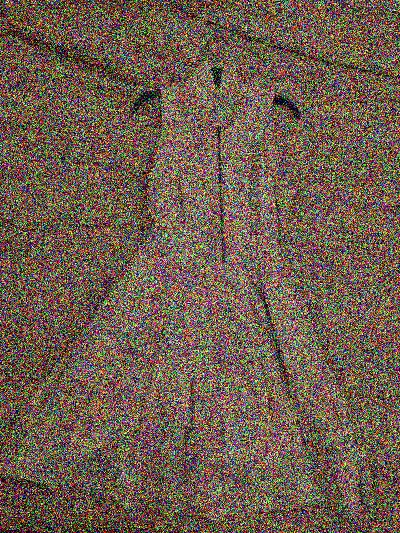Dress: (1, 48, 383, 530)
